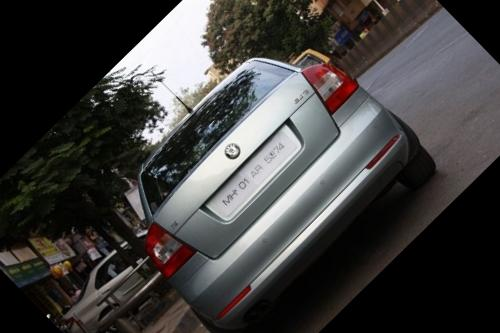plate: (192, 114, 319, 240)
